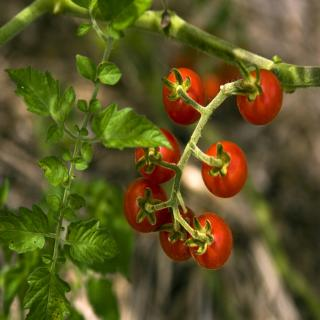tomato: (229, 59, 282, 124), (200, 140, 250, 200), (184, 210, 232, 271), (135, 129, 183, 183), (161, 68, 205, 126), (124, 176, 167, 233), (156, 205, 198, 262)
